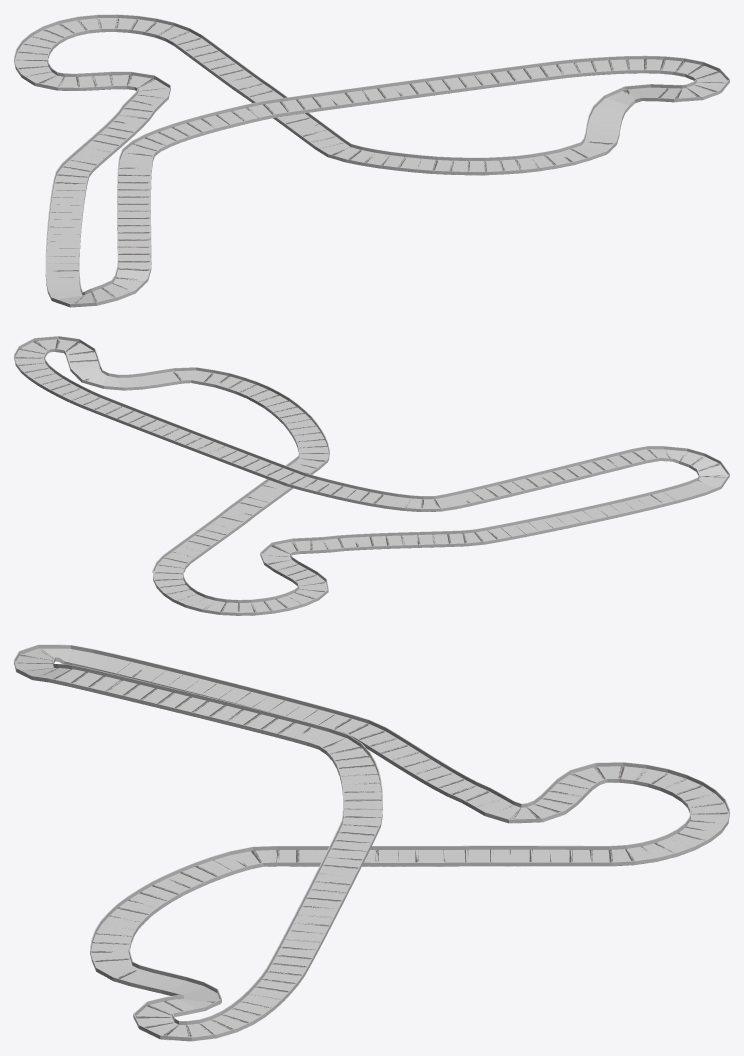
File: AITrain2Applied.fbx
3 views of the same model, one above another, from view 1: azimuth 30°, elevation 25°; view 2: azimuth 150°, elevation 25°; view 3: azimuth 270°, elevation 25° (orthographic). The views are drawn at different scales.
Visible parts, largest first — view 1: TrackHolo, TrackFloor, TrackWallsAI, TrackStructure, TrackWalls; view 2: TrackHolo, TrackFloor, TrackWallsAI, TrackStructure, TrackWalls; view 3: TrackHolo, TrackFloor, TrackWallsAI, TrackStructure, TrackWalls.
Boxes of the visible parts, x1,y1,x2,y2 form: TrackHolo: (15, 18, 727, 303); TrackFloor: (15, 18, 726, 307); TrackWallsAI: (14, 14, 683, 276); TrackStructure: (15, 18, 728, 306); TrackWalls: (46, 58, 729, 307); TrackHolo: (15, 339, 727, 612); TrackFloor: (14, 339, 729, 612); TrackWallsAI: (15, 360, 679, 615); TrackStructure: (15, 339, 726, 615); TrackWalls: (14, 336, 729, 502); TrackHolo: (15, 648, 728, 1036); TrackFloor: (15, 648, 727, 1040); TrackWallsAI: (90, 657, 729, 1031); TrackStructure: (16, 648, 728, 1037); TrackWalls: (14, 644, 237, 1041).
Bounding box in the file's own units: 97782 × 2662 × 71956.
